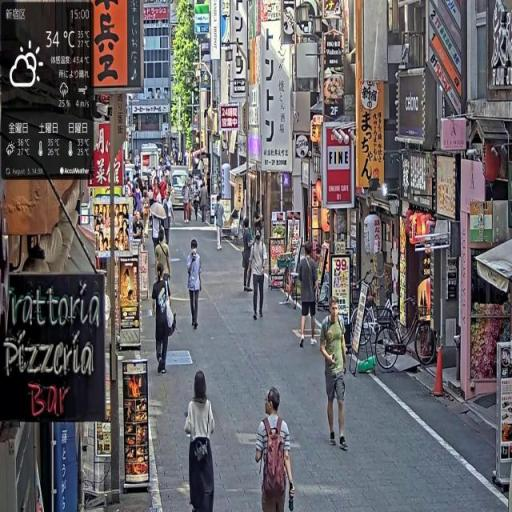person: (256, 385, 297, 512), (184, 369, 219, 512), (320, 298, 350, 453), (296, 241, 321, 351), (153, 267, 176, 378), (249, 231, 268, 322), (186, 239, 204, 335), (242, 219, 255, 295), (216, 196, 227, 253)
